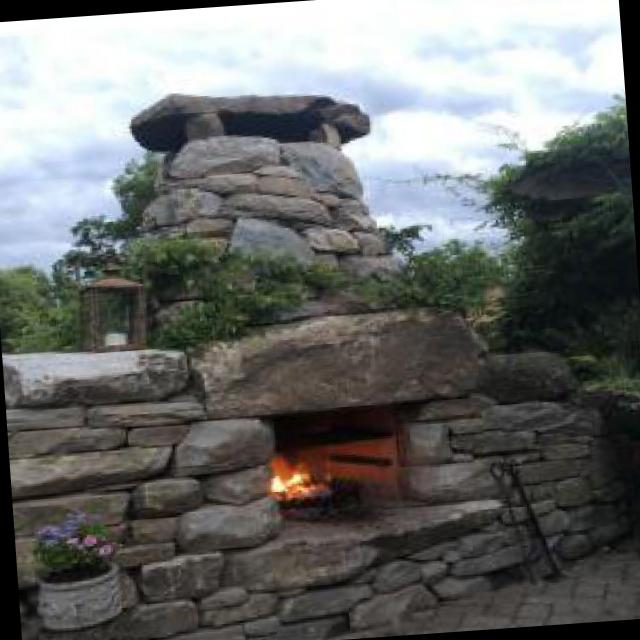fire: (252, 442, 326, 500)
